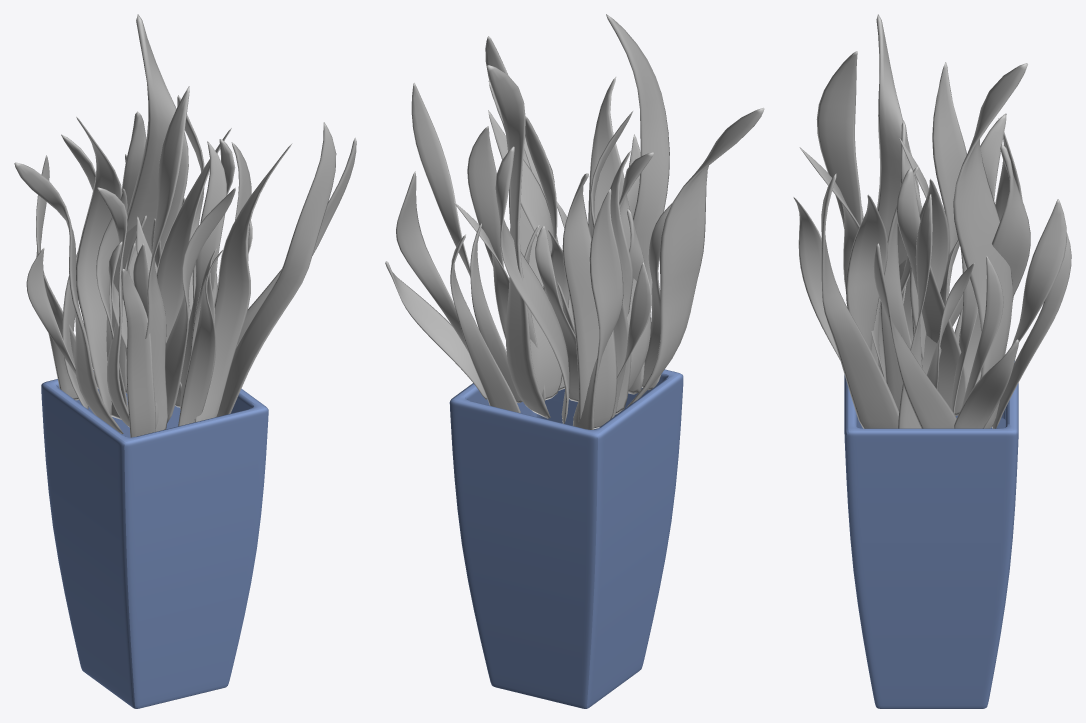
The model's file is plant.obj.
The picture shows the model from 3 angles, left to right: view 1: azimuth 30°, elevation 25°; view 2: azimuth 150°, elevation 25°; view 3: azimuth 270°, elevation 25°; orthographic projection. The views are drawn at different scales.
Parts seen in each view (by area): view 1: (null); view 2: (null); view 3: (null).
Boxes of the visible parts, <box> form: (null): <box>14,14,356,708</box>; (null): <box>385,14,764,708</box>; (null): <box>793,14,1071,708</box>.
Bounding box in the file's own units: 840 × 1463 × 578.
